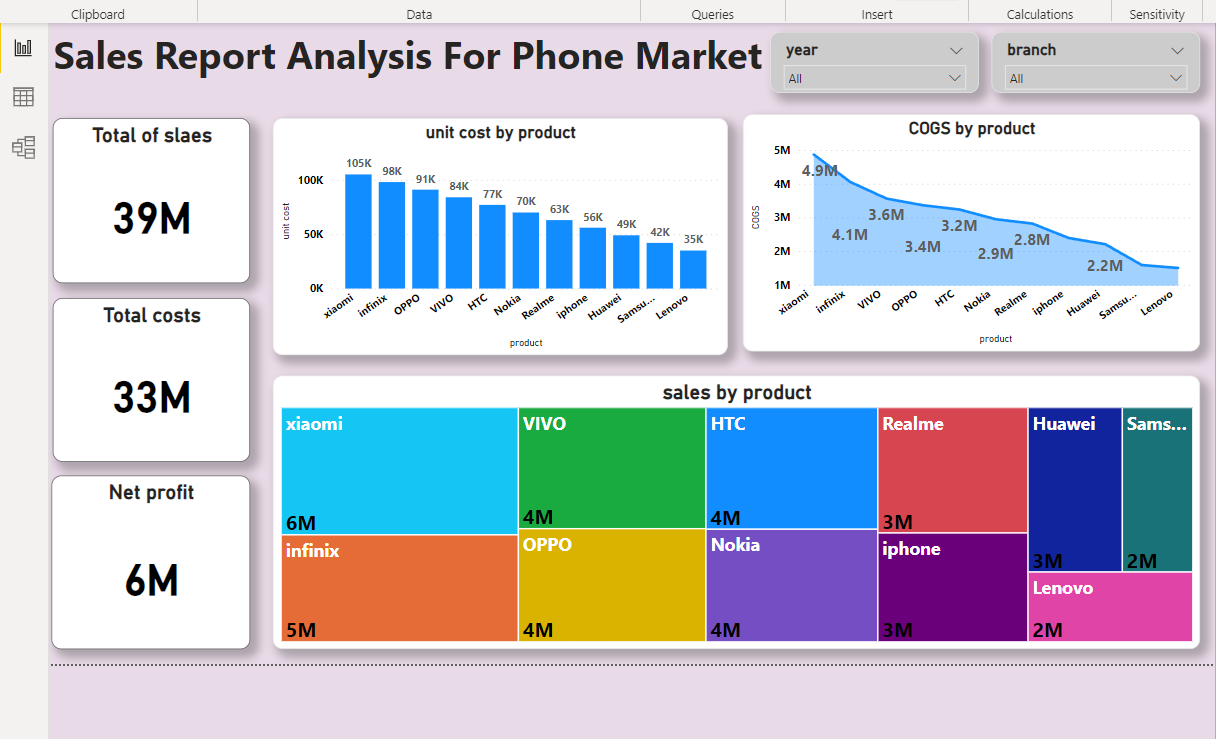

Layout of this report page (visuals, bound fields, positions):
{"tool":"powerbi","page":{"name":"Duplicate of Page 1","canvas":[1310,720],"ordinal":1},"visuals":[{"type":"textbox","box":[0,0,824.5,68.6],"z":0},{"type":"stackedAreaChart","fields":{"Y":["Sum(ALL.COGS)"],"Category":["ALL.product"]},"box":[779.3,102.5,513.9,266.8],"z":1000},{"type":"treemap","fields":{"Group":["ALL.product"],"Values":["Sum(ALL.sales)"]},"box":[251.3,395.9,1041.8,307.5],"z":2000},{"type":"card","title":"Total of slaes","fields":{"Values":["Sum(ALL.sales)"]},"box":[4.2,106.7,221.8,185.3],"z":3000},{"type":"card","title":"Total costs","fields":{"Values":["Sum(ALL.COGS)"]},"box":[4.2,308.9,221.8,183.9],"z":4000},{"type":"card","title":"Net profit","fields":{"Values":["Sum(ALL.Net sales)"]},"box":[2.8,508.3,223.2,195.2],"z":5000},{"type":"slicer","fields":{"Values":["ALL.year"]},"box":[810.2,9.8,234.5,68.8],"z":6000},{"type":"slicer","fields":{"Values":["ALL.branch"]},"box":[1058.7,9.8,234.5,68.8],"z":7000},{"type":"clusteredColumnChart","fields":{"Category":["ALL.product"],"Y":["Sum(ALL.unit cost)"]},"box":[251.3,106.7,511.1,266.8],"z":8000}]}

Visuals, with their boxes on the page's 1310x720 design canvas (x1, y1, x2, y2). These are canvas units, not pixel positions in the 1216x739 screenshot, which may show the page scaled, cropped or inside an application window:
textbox: bbox(0, 0, 824, 69)
stackedAreaChart - Sum(ALL.COGS) x ALL.product: bbox(779, 102, 1293, 369)
treemap - ALL.product x Sum(ALL.sales): bbox(251, 396, 1293, 703)
"Total of slaes" card: bbox(4, 107, 226, 292)
"Total costs" card: bbox(4, 309, 226, 493)
"Net profit" card: bbox(3, 508, 226, 704)
slicer - ALL.year: bbox(810, 10, 1045, 79)
slicer - ALL.branch: bbox(1059, 10, 1293, 79)
clusteredColumnChart - ALL.product x Sum(ALL.unit cost): bbox(251, 107, 762, 374)
